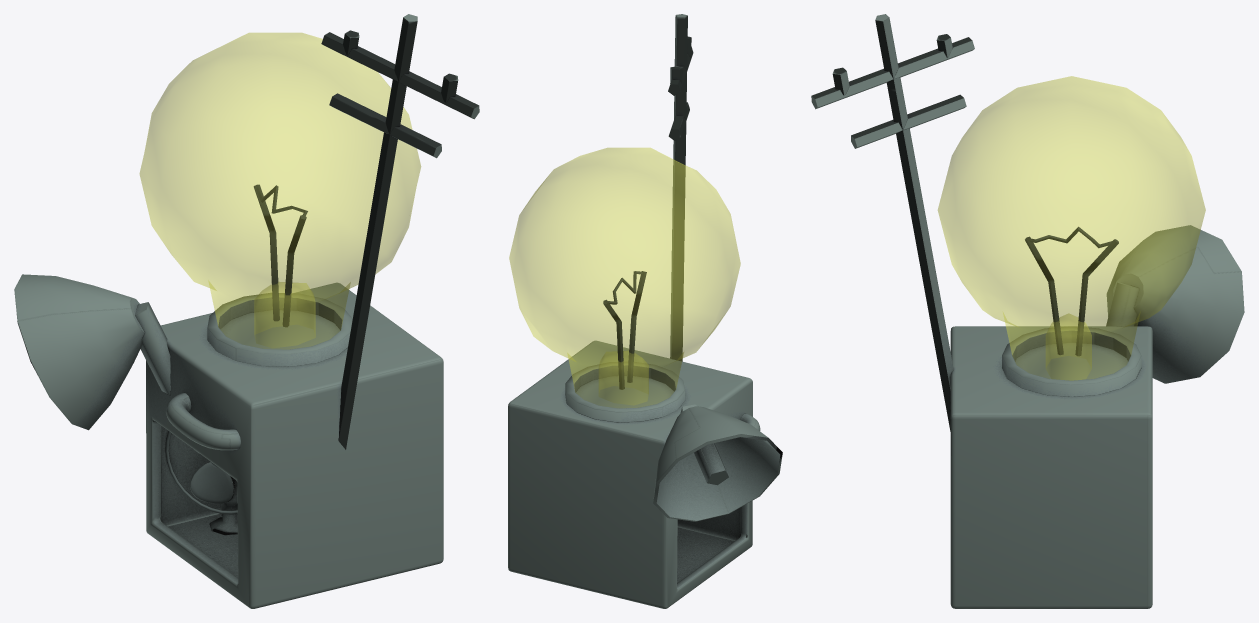
File: Aparat.FBX
The picture shows the model from 3 angles, left to right: view 1: azimuth 30°, elevation 25°; view 2: azimuth 150°, elevation 25°; view 3: azimuth 270°, elevation 25°; orthographic projection. The views are drawn at different scales.
Parts seen in each view (by area): view 1: Box001, Lamp, Box004; view 2: Box001, Lamp; view 3: Box001, Lamp.
Part boxes in pixels (<box>): Box001: <box>14,14,479,608</box>; Lamp: <box>139,32,421,349</box>; Box004: <box>190,449,234,503</box>; Box001: <box>508,14,782,608</box>; Lamp: <box>509,147,740,407</box>; Box001: <box>811,14,1244,608</box>; Lamp: <box>937,76,1205,380</box>.
Bounding box in the file's own units: 264 × 434 × 303.
